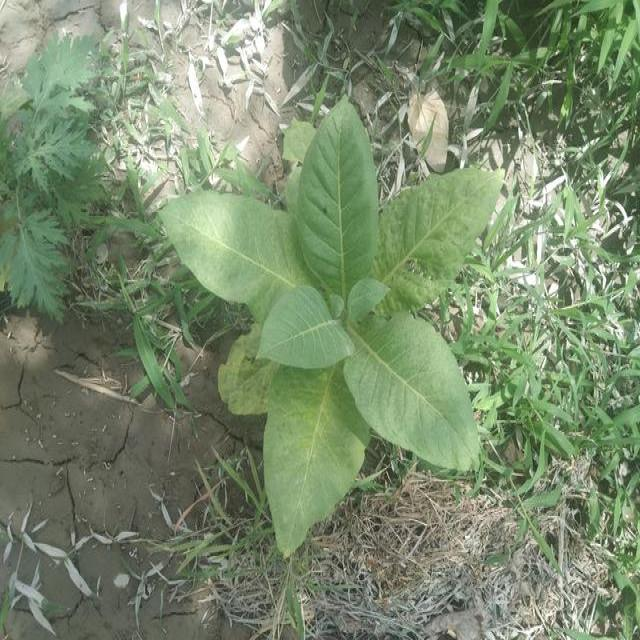crop: (163, 112, 502, 558)
